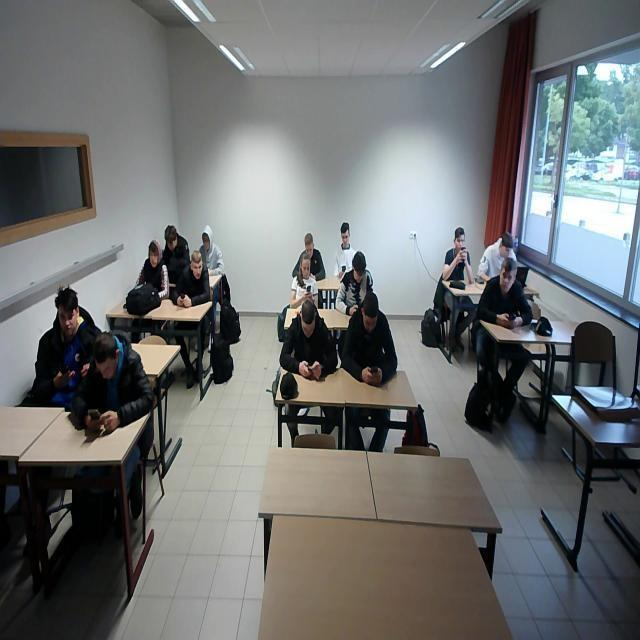phone_use: (20, 286, 99, 407), (69, 331, 152, 432), (340, 292, 395, 384), (279, 300, 336, 377), (477, 275, 530, 323), (335, 250, 371, 313), (174, 250, 209, 305), (441, 226, 472, 282), (290, 253, 316, 306), (333, 221, 354, 277)
